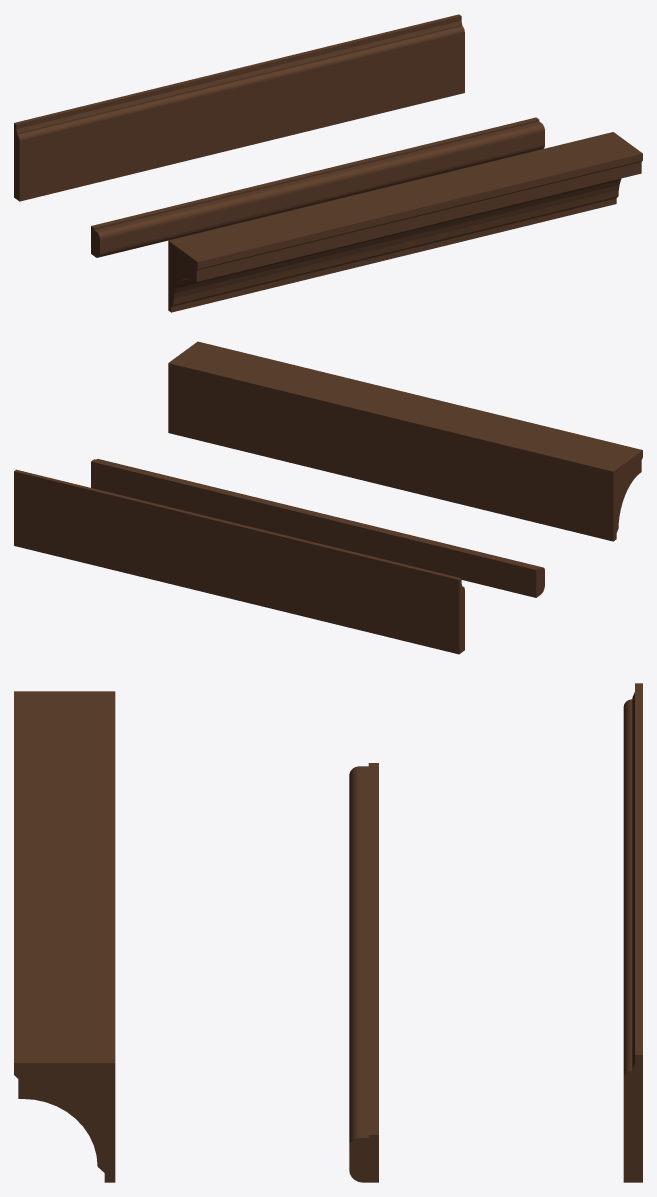
The model's file is mouldings.glb.
The picture shows the model from 3 angles, top to bottom: view 1: azimuth 30°, elevation 25°; view 2: azimuth 150°, elevation 25°; view 3: azimuth 270°, elevation 25°; orthographic projection. The views are drawn at different scales.
Parts seen in each view (by area): view 1: Skirting, Cornice, Dado; view 2: Cornice, Skirting, Dado; view 3: Cornice, Dado, Skirting.
Boxes of the visible parts, x1,y1,x2,y2 form: Skirting: [14, 14, 464, 201]; Cornice: [168, 132, 642, 312]; Dado: [91, 117, 544, 257]; Cornice: [168, 341, 642, 541]; Skirting: [14, 469, 464, 654]; Dado: [91, 459, 544, 597]; Cornice: [14, 691, 115, 1182]; Dado: [349, 763, 378, 1182]; Skirting: [623, 683, 642, 1182].
Size of the model in its own units: 1 by 0.16 by 0.715.
